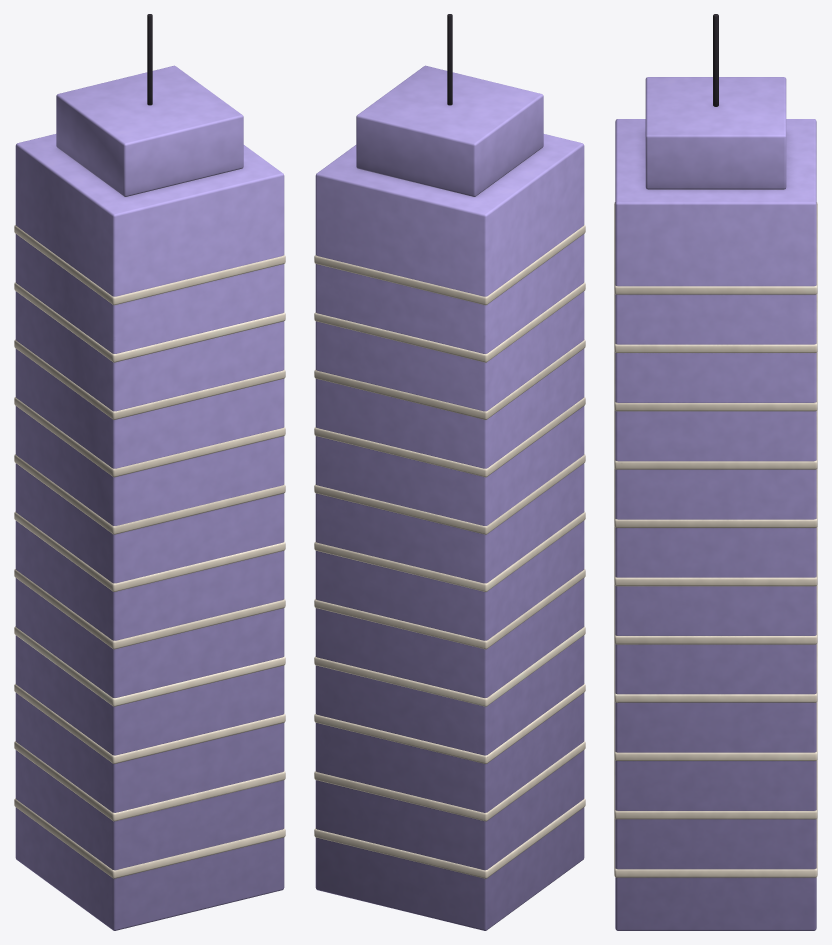
File: rc_skyscraper.glb
3 renders of one model, left to right at view 1: azimuth 30°, elevation 25°; view 2: azimuth 150°, elevation 25°; view 3: azimuth 270°, elevation 25°, orthographic.
Parts seen in each view (by area): view 1: rc_skyscraper; view 2: rc_skyscraper; view 3: rc_skyscraper.
Boxes of the visible parts, x1,y1,x2,y2 form: rc_skyscraper: (14, 14, 285, 930); rc_skyscraper: (314, 14, 585, 930); rc_skyscraper: (614, 14, 817, 930).
Bounding box in the file's own units: 10.1 × 48 × 10.1.
3 materials, 3 textured.
